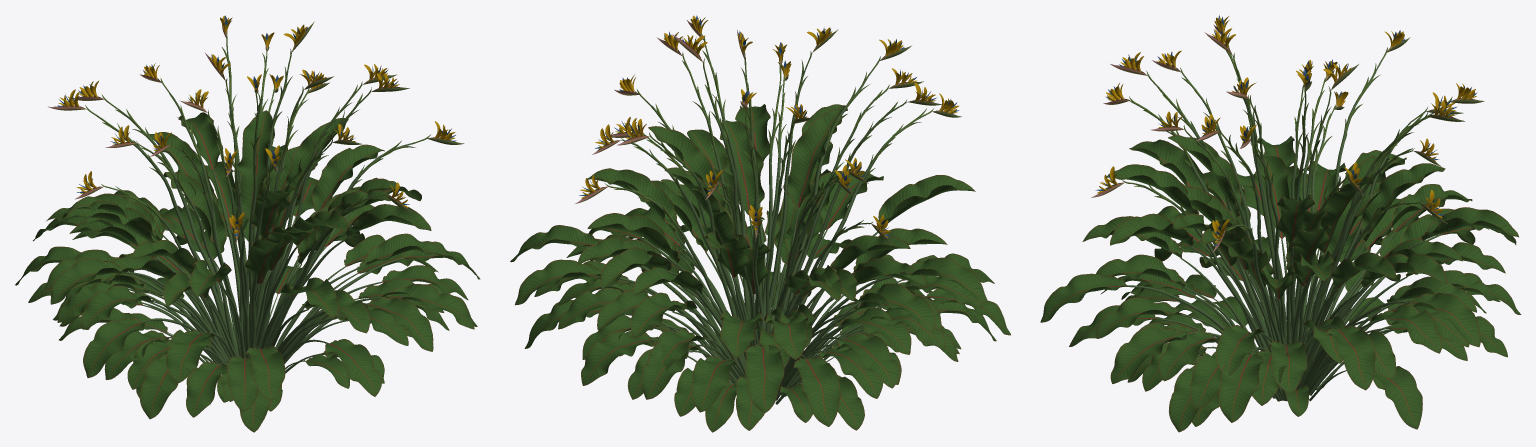
The model's file is strelitzia.fbx.
3 renders of one model, left to right at view 1: azimuth 30°, elevation 25°; view 2: azimuth 150°, elevation 25°; view 3: azimuth 270°, elevation 25°, orthographic. The views are drawn at different scales.
Parts seen in each view (by area): view 1: Strelitzia_r__A001.003, Strelitzia_r__A001.001, Strelitzia_r__A001.002, Strelitzia_r__A001.004; view 2: Strelitzia_r__A001.003, Strelitzia_r__A001.001, Strelitzia_r__A001.002, Strelitzia_r__A001.004; view 3: Strelitzia_r__A001.003, Strelitzia_r__A001.001, Strelitzia_r__A001.002, Strelitzia_r__A001.004.
Part boxes in pixels (box(x1,y1,x2,y2)): Strelitzia_r__A001.003: box(15, 110, 480, 432); Strelitzia_r__A001.001: box(87, 47, 419, 376); Strelitzia_r__A001.002: box(48, 15, 464, 243); Strelitzia_r__A001.004: box(85, 34, 430, 243); Strelitzia_r__A001.003: box(510, 104, 1010, 432); Strelitzia_r__A001.001: box(615, 49, 927, 404); Strelitzia_r__A001.002: box(575, 15, 961, 244); Strelitzia_r__A001.004: box(604, 37, 933, 255); Strelitzia_r__A001.003: box(1040, 135, 1521, 432); Strelitzia_r__A001.001: box(1126, 46, 1441, 401); Strelitzia_r__A001.002: box(1091, 15, 1484, 252); Strelitzia_r__A001.004: box(1122, 36, 1452, 244).
Bounding box in the file's own units: 2316 × 1794 × 2222.
